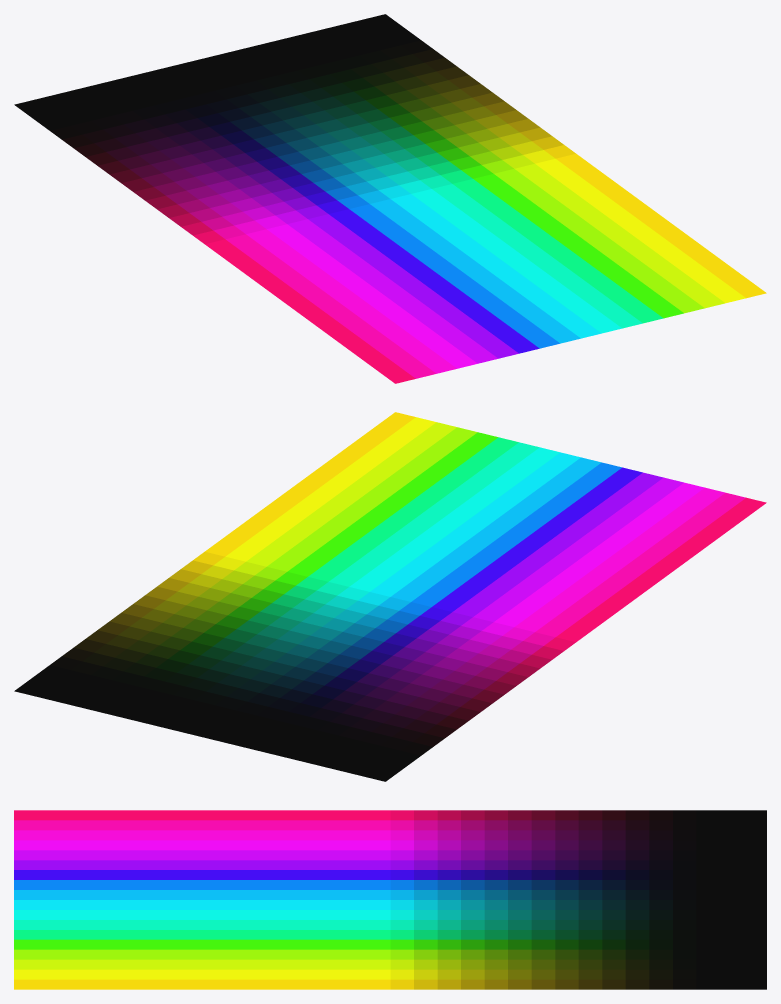
File: primaries-sweep.glb
3 renders of one model, top to bottom at view 1: azimuth 30°, elevation 25°; view 2: azimuth 150°, elevation 25°; view 3: azimuth 270°, elevation 25°, orthographic.
Size of the model in its own units: 0.9 by 0 by 1.6.
